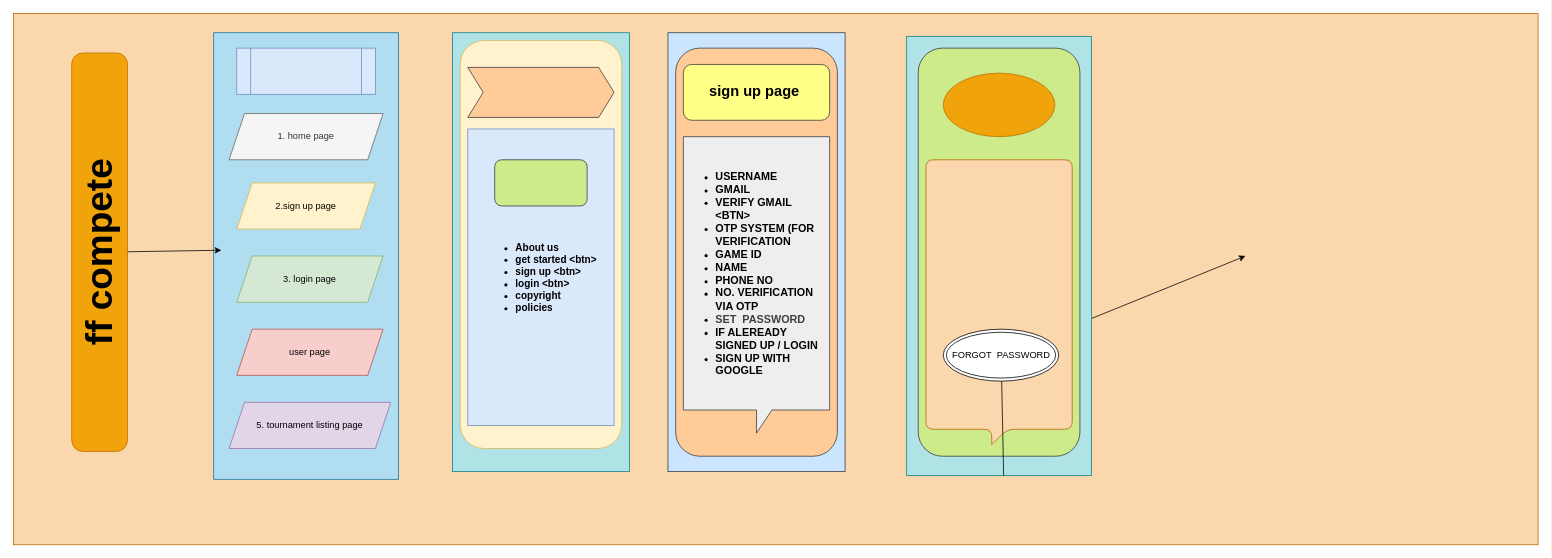
Image size: 1552x558. Some labels were removed from this diagram. The shapes that lost their labels are listed below. From the top down, each one's box as (x1, y1, x2, y2) in pixels, then its label:
(236, 47, 375, 94): pages that are needed
(467, 67, 614, 117): Homepage
(942, 72, 1055, 137): LOGIN PAGE
(494, 159, 587, 206): page features
(925, 159, 1072, 445): GMAIL LOGIN PASSWORD
